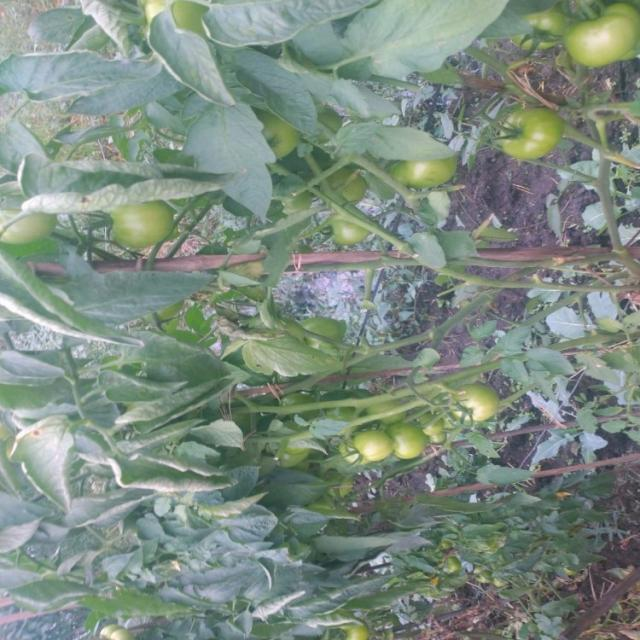tomato: (489, 101, 577, 175), (562, 10, 640, 92), (105, 195, 180, 264), (389, 148, 475, 208), (1, 184, 59, 254), (516, 4, 575, 60), (261, 101, 308, 167), (383, 413, 435, 467), (346, 416, 391, 468), (146, 5, 212, 40), (450, 376, 483, 428), (342, 616, 374, 640)
